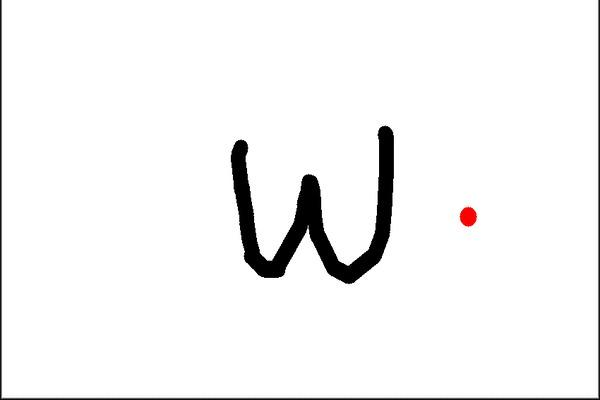w: (221, 113, 412, 292)
